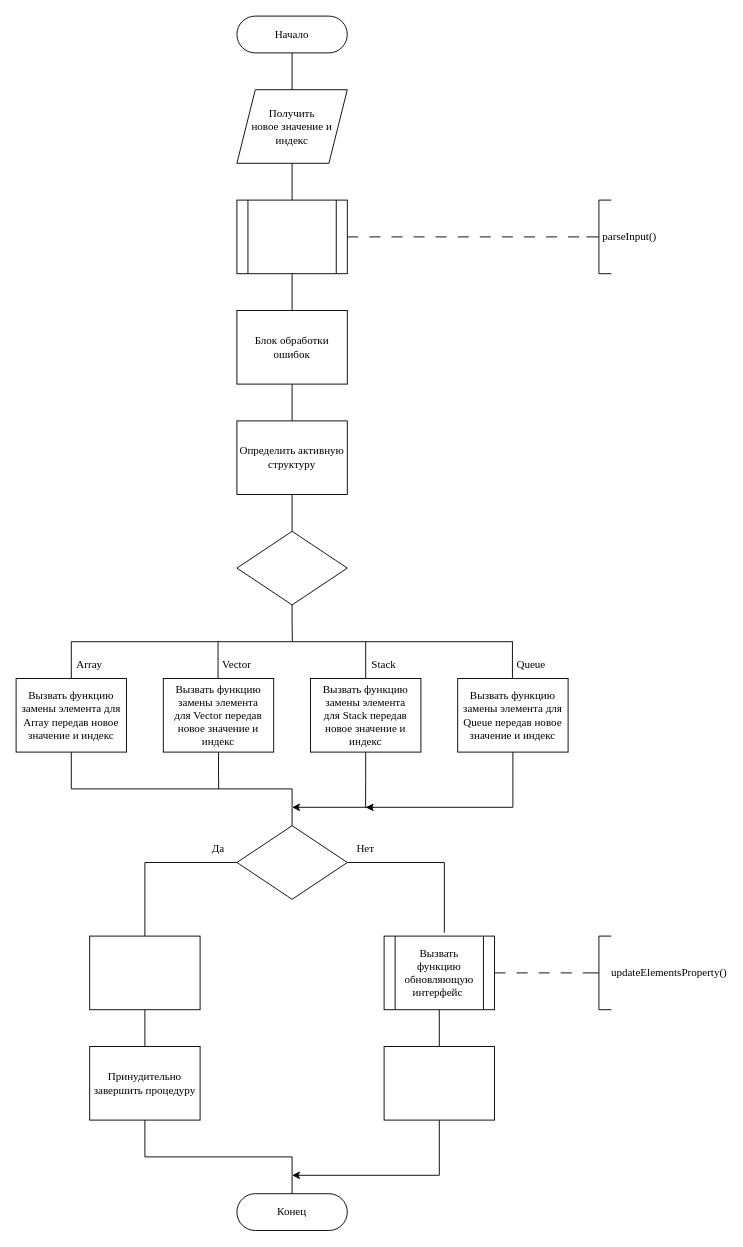
Image size: 743x1247. Some labels were removed from this diagram. Each missing label, with the centre of its shape:
Активный тип структуры?: (x=291, y=567)
Была ли ошибка?: (x=291, y=862)
Отправить сигнал о возникновении ошибки: (x=144, y=972)
Отправить сигнал об изменении элементов: (x=438, y=1083)
Преобразовать новое значение в элемент нужного типа: (x=291, y=236)
